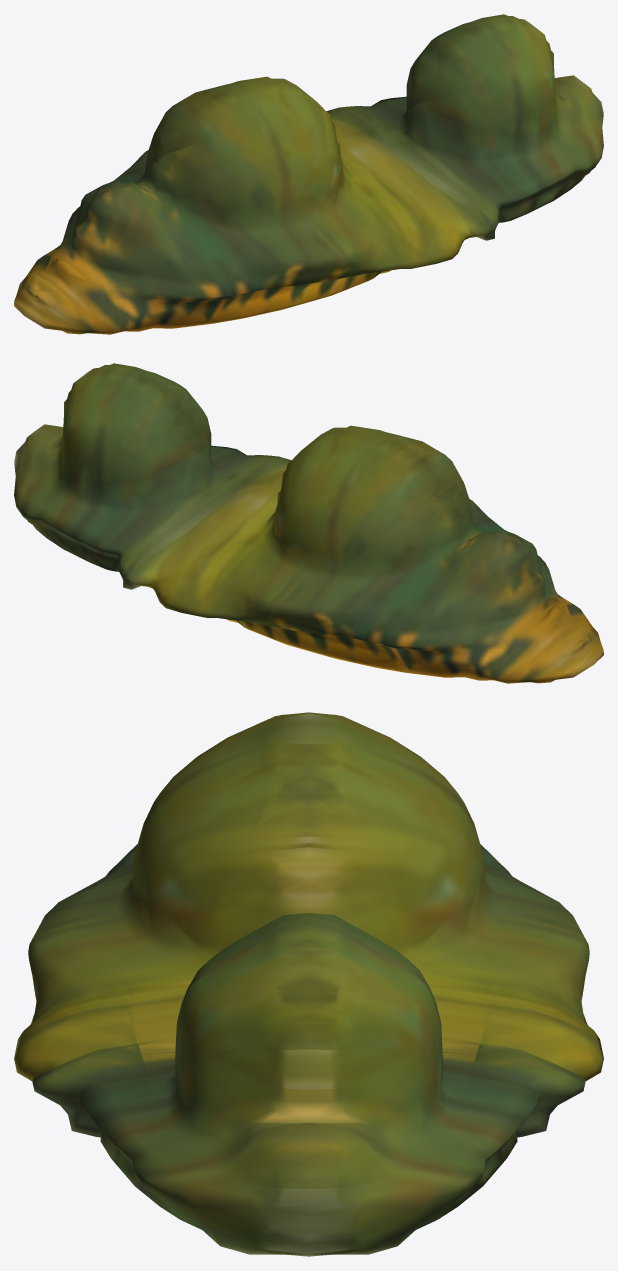
File: 01_rocks_and_bushes_r03_c09.glb
3 renders of one model, top to bottom at view 1: azimuth 30°, elevation 25°; view 2: azimuth 150°, elevation 25°; view 3: azimuth 270°, elevation 25°, orthographic. The views are drawn at different scales.
Visible parts, largest first — view 1: 01_rocks_and_bushes_r03_c09; view 2: 01_rocks_and_bushes_r03_c09; view 3: 01_rocks_and_bushes_r03_c09.
Part boxes in pixels (bbox=[...]): 01_rocks_and_bushes_r03_c09: bbox=[14, 14, 603, 334]; 01_rocks_and_bushes_r03_c09: bbox=[14, 363, 603, 683]; 01_rocks_and_bushes_r03_c09: bbox=[14, 712, 603, 1256].
Size of the model in its own units: 2.18 by 0.7302 by 1.14.
1 material, 1 textured.
